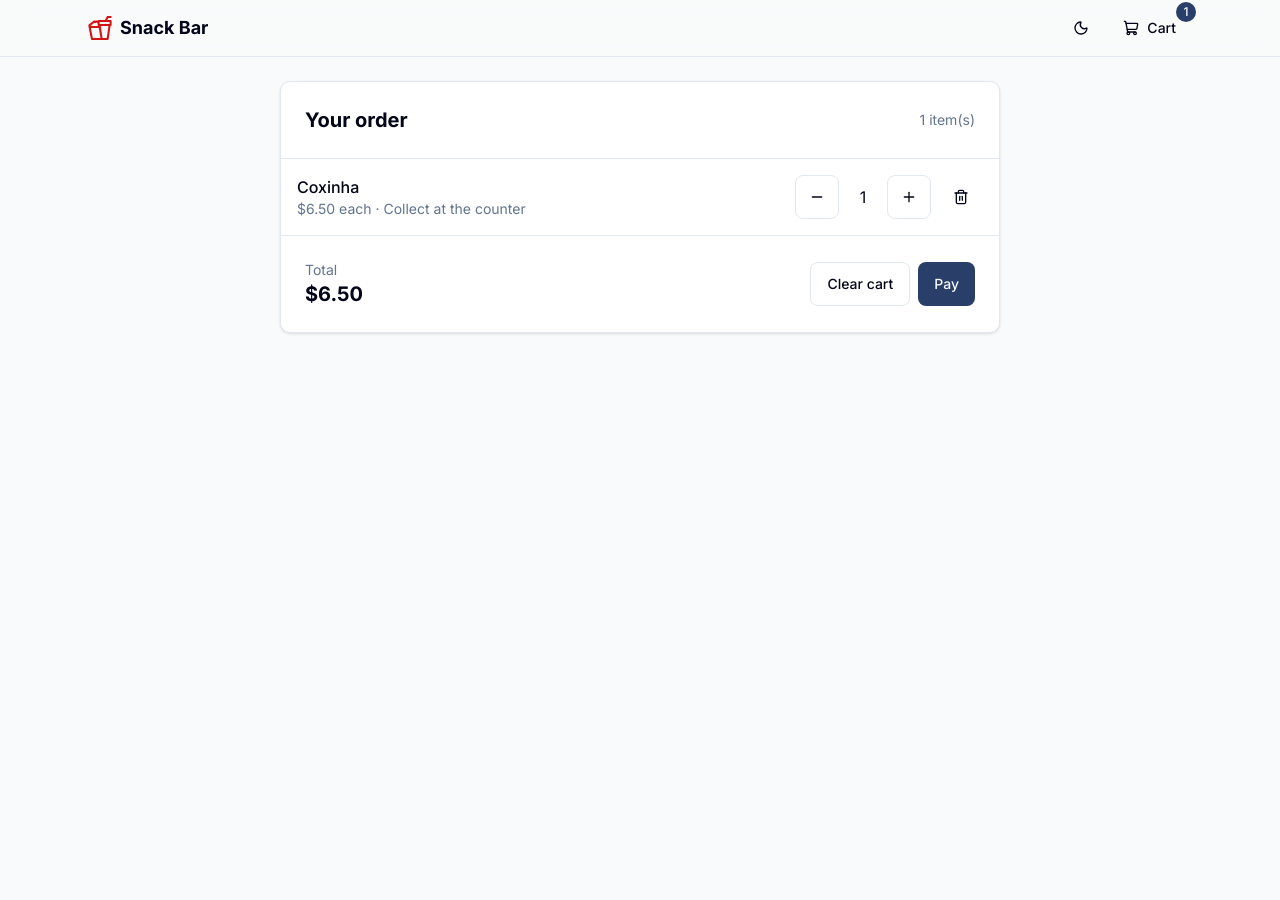
it: CartScreen cancel flow › requires confirmation before cancelling the order
The image size is (1280, 900).
Click the button "Clear cart": (860, 284) [810,262,910,306]
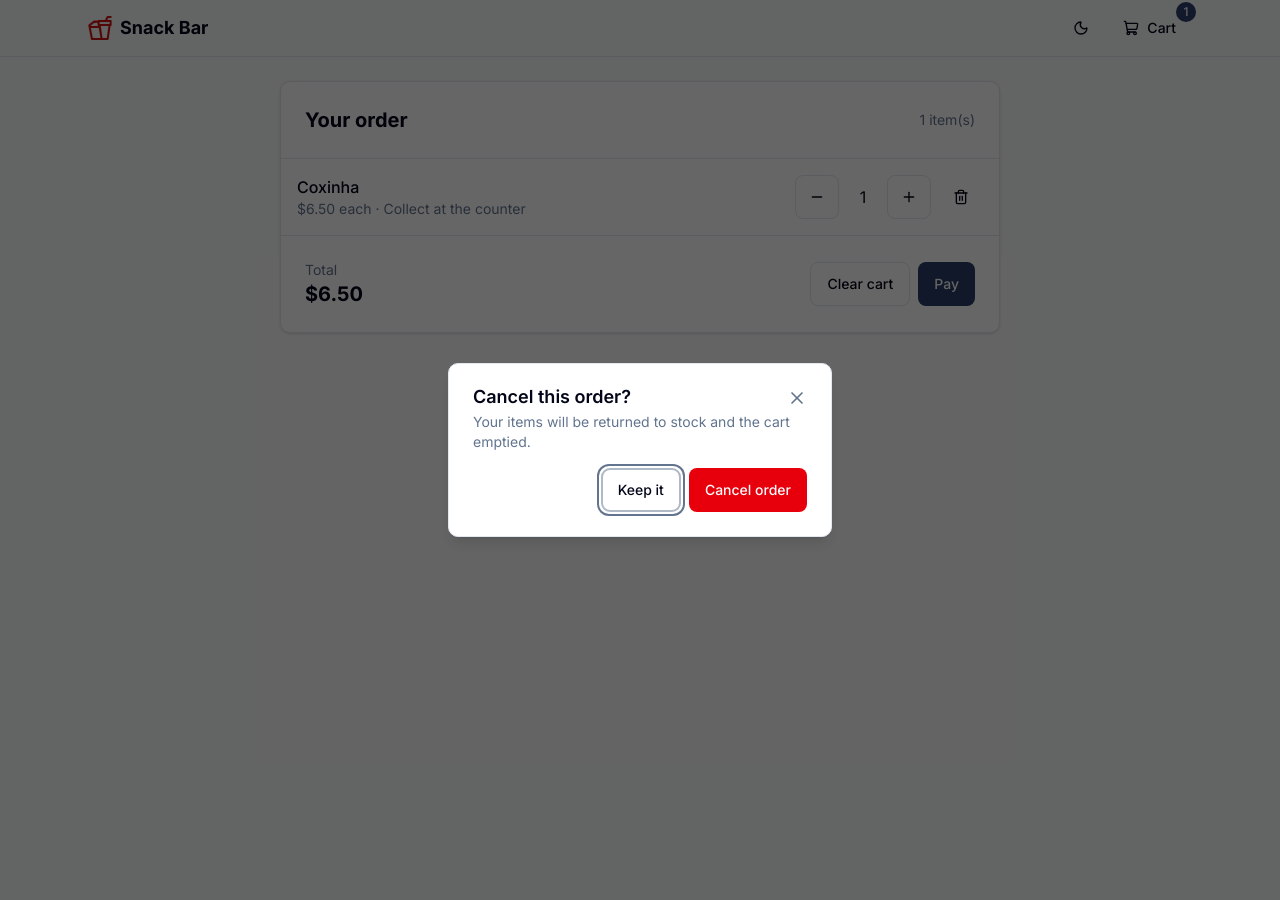
expect the button "Cancel order" is shown: met
Click the button "Cancel order": (748, 490) [689,468,807,512]
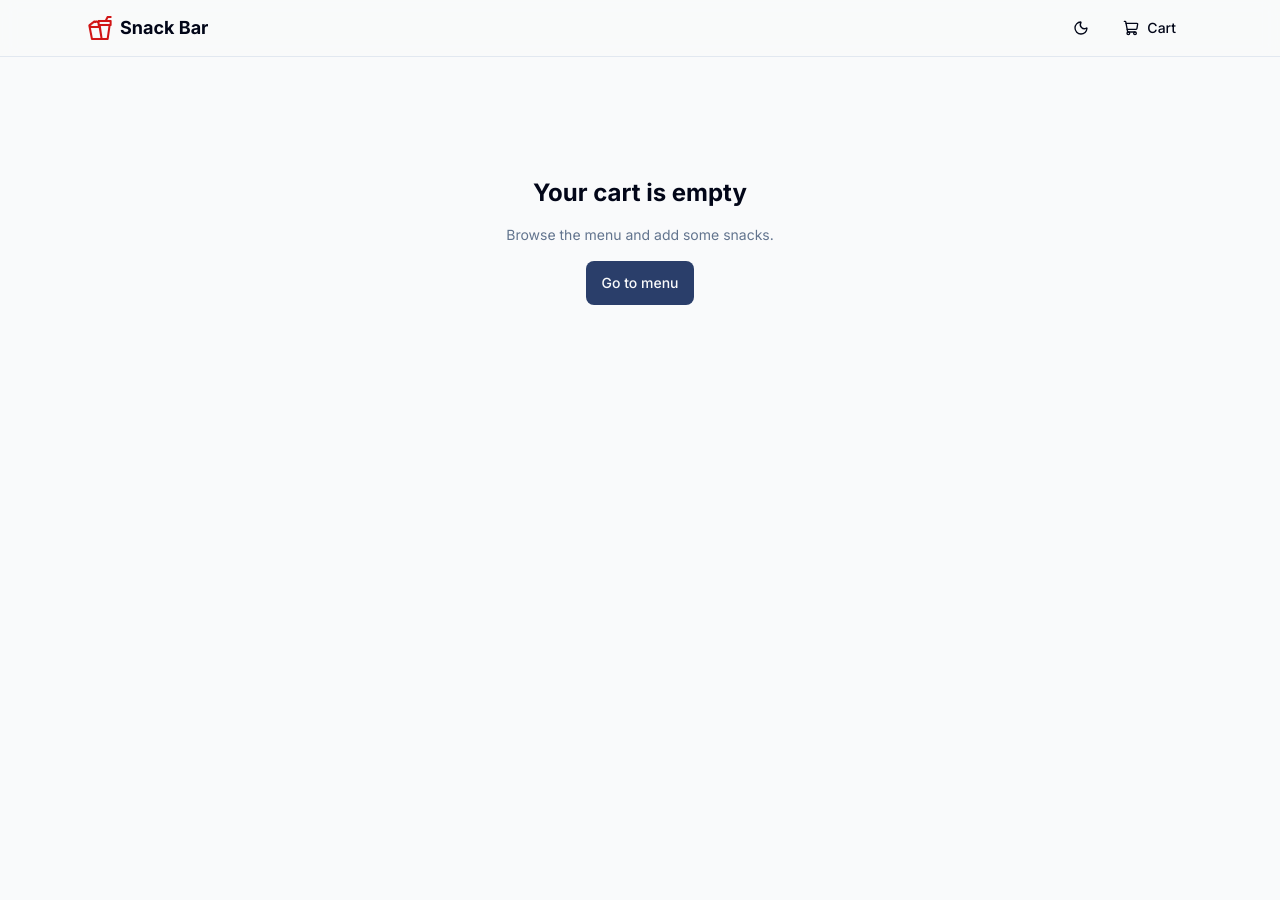
expect the heading "Your cart is empty" is shown: met, box [533,177,747,209]
